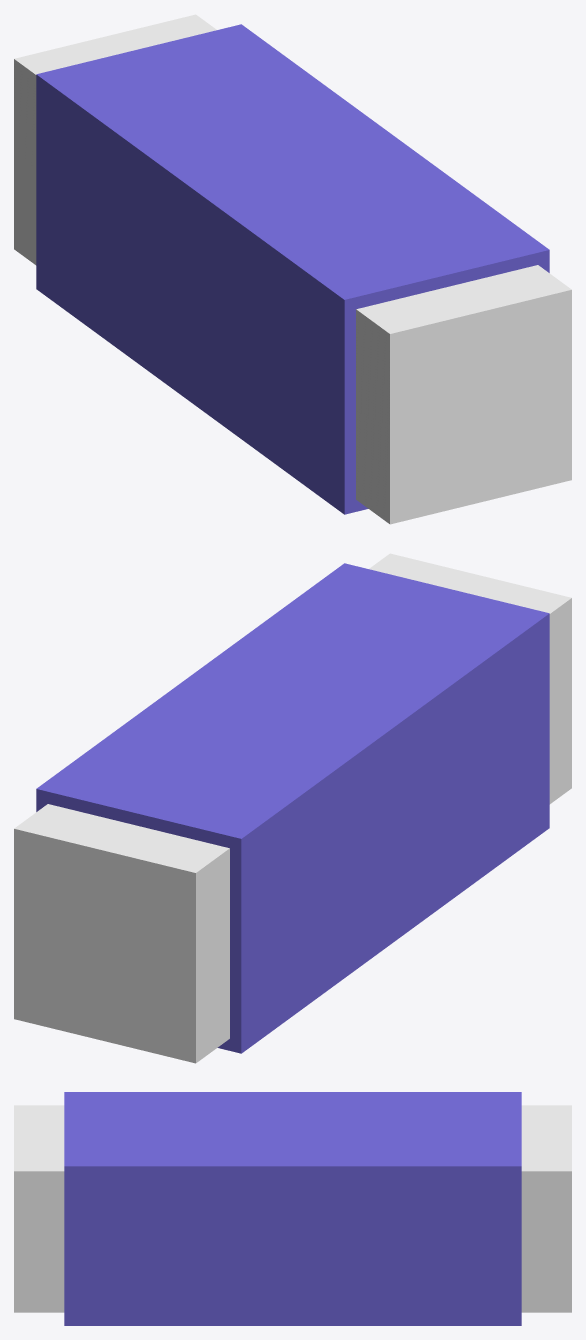
The model's file is Eraser_2.fbx.
3 renders of one model, top to bottom at view 1: azimuth 30°, elevation 25°; view 2: azimuth 150°, elevation 25°; view 3: azimuth 270°, elevation 25°, orthographic. The views are drawn at different scales.
Visible parts, largest first — view 1: Куб.001; view 2: Куб.001; view 3: Куб.001.
Boxes of the visible parts, left/top/right/bottom form: Куб.001: left=14, top=14, right=571, bottom=524; Куб.001: left=14, top=553, right=571, bottom=1063; Куб.001: left=14, top=1092, right=571, bottom=1325.
Bounding box in the file's own units: 142 × 142 × 450.
